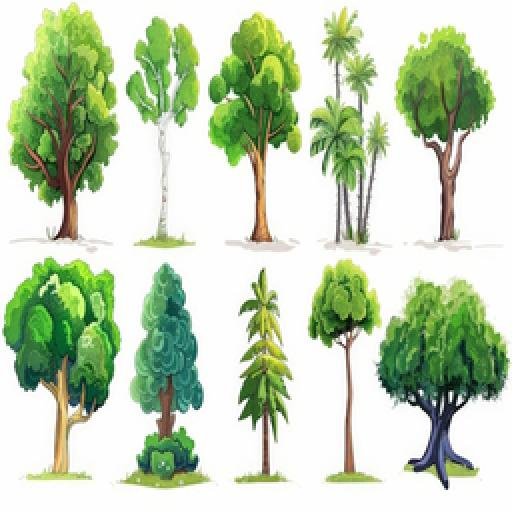trees: (374, 274, 510, 492), (8, 2, 122, 246), (2, 256, 124, 484), (206, 10, 304, 250), (394, 24, 498, 246), (308, 6, 390, 248), (126, 262, 210, 486), (306, 256, 386, 486), (124, 16, 202, 248), (234, 266, 298, 482)
